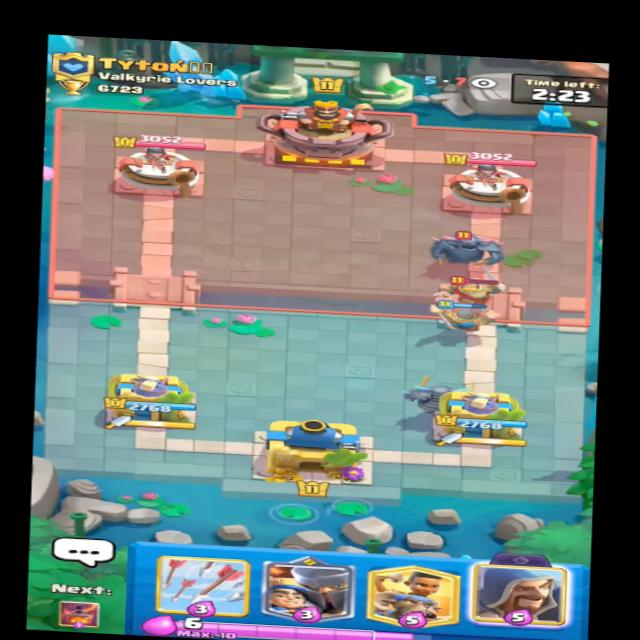knight: (438, 274, 517, 316)
pekka: (420, 226, 506, 271)
